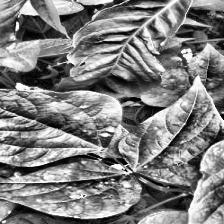Bean Rust: (122, 76, 224, 191), (0, 83, 112, 161), (0, 158, 145, 214), (141, 44, 224, 117)
